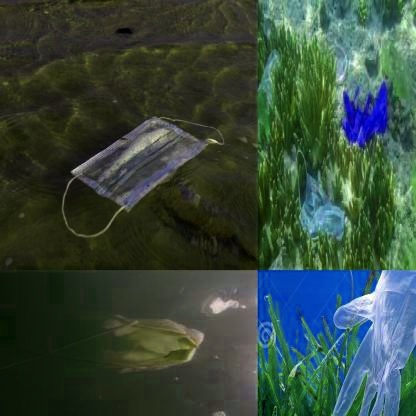Mask: (61, 117, 231, 256), (1, 308, 212, 392), (290, 130, 348, 244)
glove: (329, 270, 416, 416), (338, 77, 394, 152), (326, 29, 371, 95)
